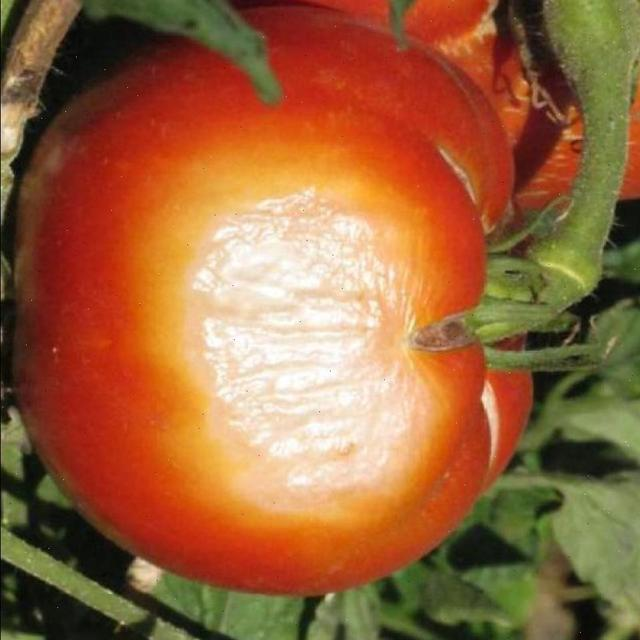Sunscald Fruit: (100, 104, 292, 332)
